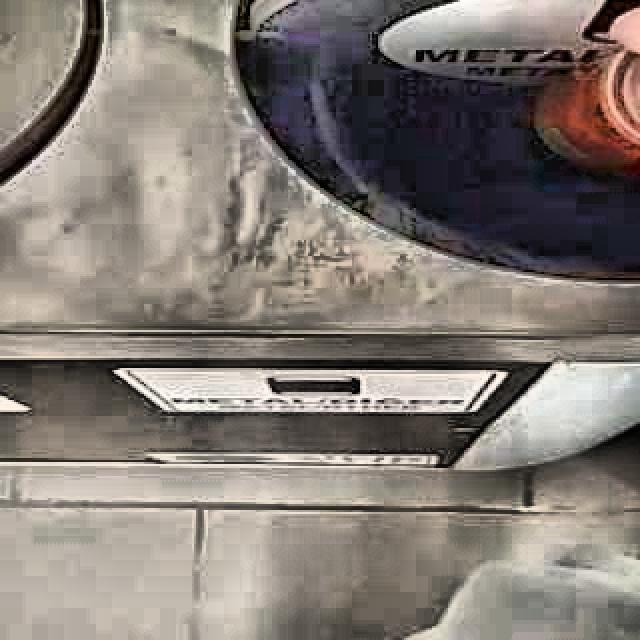metal: (536, 46, 640, 165)
